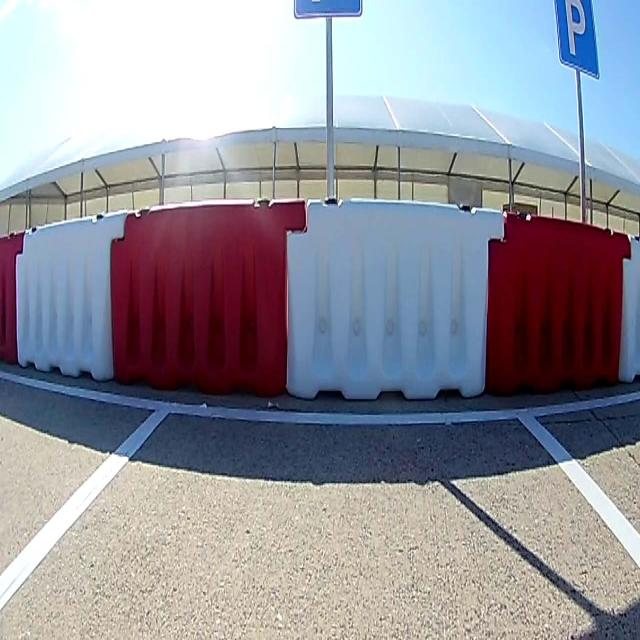park: (555, 0, 599, 76)
